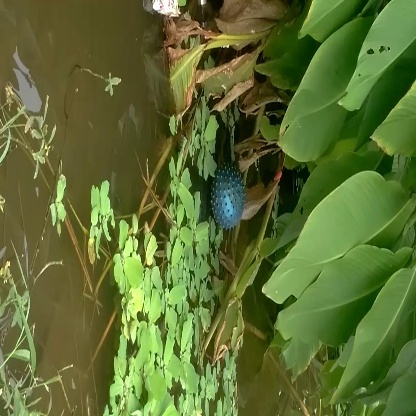ball: (204, 157, 252, 234)
